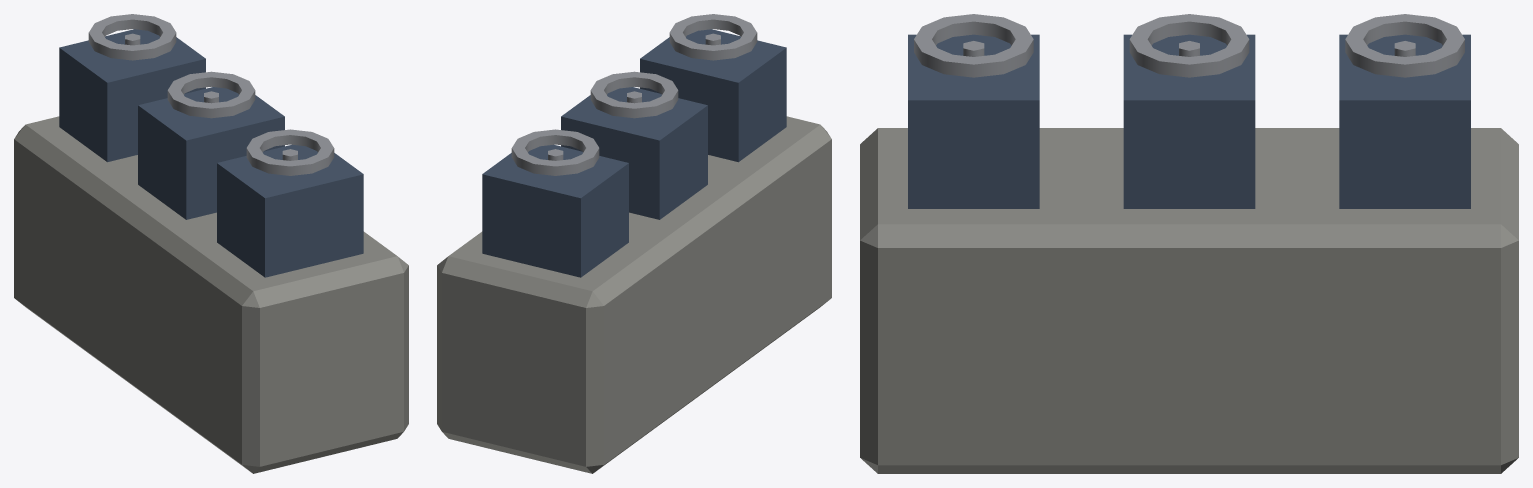
The model's file is ko300_valves.obj.
3 views of the same model, side by side, from view 1: azimuth 30°, elevation 25°; view 2: azimuth 150°, elevation 25°; view 3: azimuth 270°, elevation 25° (orthographic). The views are drawn at different scales.
Parts seen in each view (by area): view 1: ko300_valves; view 2: ko300_valves; view 3: ko300_valves.
Boxes of the visible parts, box(x1,y1,x2,y2) form: ko300_valves: box(14, 14, 408, 473); ko300_valves: box(437, 14, 831, 473); ko300_valves: box(860, 14, 1518, 473).
Bounding box in the file's own units: 0.44 × 0.712 × 1.1.
